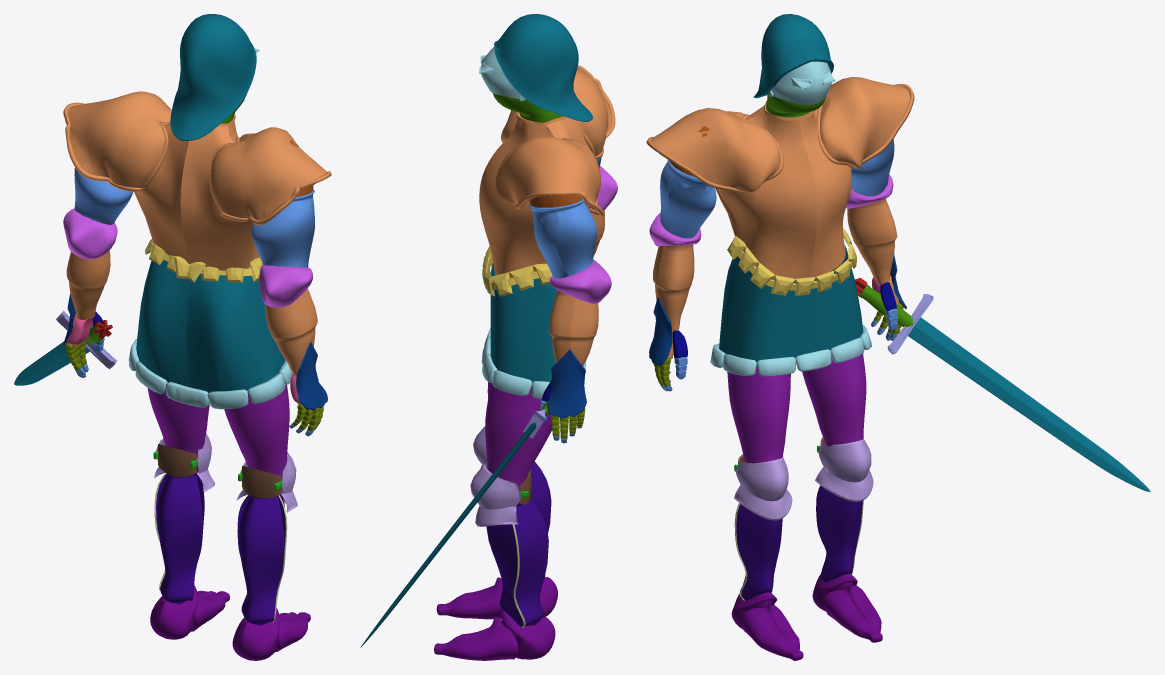
Rendered from knight.obj.
3 renders of one model, left to right at view 1: azimuth 30°, elevation 25°; view 2: azimuth 150°, elevation 25°; view 3: azimuth 270°, elevation 25°, orthographic. The views are drawn at different scales.
Parts seen in each view (by area): view 1: ??????, ????, ?????, ??????????, ?????01, ?????????, ?????????01, ??????01, ???_????, ???_????01, ??????????01, ??????1 (+2 smaller); view 2: ??????, ?????, ?????01, ????, ??????????01, ?????????01, ???_????01, ??????02, ??????03, ????01, ??????01, ?????????? (+3 smaller); view 3: ??????, ????, ?????, ?????01, ??????1, ??????????, ??????02, ???_????01, ??????03, ???_????, ???????, ??????????01.
Part boxes in pixels (bbox=[...]): ??????: bbox=[14, 91, 331, 498]; ????: bbox=[136, 239, 327, 410]; ?????: bbox=[56, 14, 310, 660]; ??????????: bbox=[128, 189, 314, 409]; ?????01: bbox=[147, 388, 229, 639]; ?????????: bbox=[238, 496, 284, 625]; ?????????01: bbox=[156, 475, 202, 604]; ??????01: bbox=[63, 208, 197, 476]; ???_????: bbox=[264, 288, 317, 375]; ???_????01: bbox=[66, 250, 110, 319]; ??????????01: bbox=[74, 167, 132, 224]; ??????1: bbox=[236, 404, 310, 622]; ??????: bbox=[360, 65, 617, 647]; ?????: bbox=[436, 14, 592, 619]; ?????01: bbox=[434, 382, 555, 660]; ????: bbox=[482, 246, 556, 388]; ??????????01: bbox=[528, 199, 596, 278]; ?????????01: bbox=[513, 500, 548, 625]; ???_????01: bbox=[549, 290, 598, 366]; ??????02: bbox=[486, 524, 525, 627]; ??????03: bbox=[470, 463, 521, 526]; ????01: bbox=[547, 350, 586, 418]; ??????01: bbox=[519, 259, 611, 504]; ??????????: bbox=[481, 157, 601, 398]; ??????: bbox=[646, 77, 1150, 491]; ????: bbox=[649, 228, 863, 367]; ?????: bbox=[727, 14, 933, 660]; ?????01: bbox=[802, 353, 882, 642]; ??????1: bbox=[663, 330, 792, 600]; ??????????: bbox=[660, 159, 871, 376]; ??????02: bbox=[816, 485, 863, 582]; ???_????01: bbox=[847, 198, 897, 283]; ??????03: bbox=[815, 438, 873, 501]; ???_????: bbox=[653, 244, 694, 330]; ???????: bbox=[669, 61, 835, 176]; ??????????01: bbox=[851, 139, 894, 196].
Size of the model in its own units: 153 by 444 by 338.
